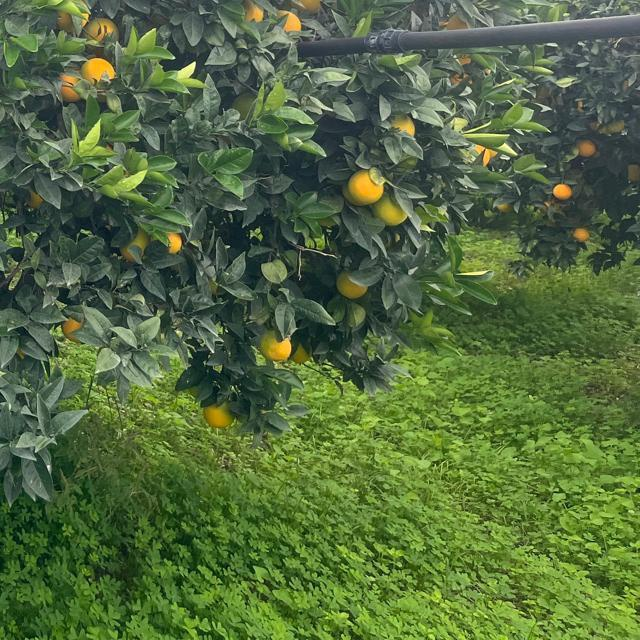orange: (349, 168, 385, 202), (372, 193, 408, 227), (257, 329, 291, 359), (82, 16, 120, 42), (119, 229, 149, 261), (336, 270, 370, 298), (81, 57, 117, 83), (57, 66, 81, 102), (56, 11, 90, 31), (204, 403, 232, 427), (276, 10, 302, 34), (62, 317, 86, 343), (388, 112, 416, 134), (241, 0, 265, 22), (291, 339, 313, 363), (165, 229, 183, 255), (473, 143, 491, 167), (24, 188, 44, 208), (551, 182, 573, 200), (575, 137, 595, 155), (293, 0, 323, 12), (605, 118, 625, 134), (572, 226, 590, 242), (625, 162, 639, 182), (496, 201, 516, 213)
